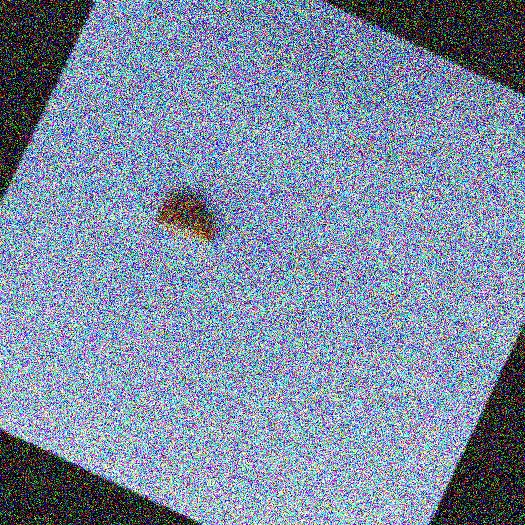grade4: (145, 180, 235, 258)
